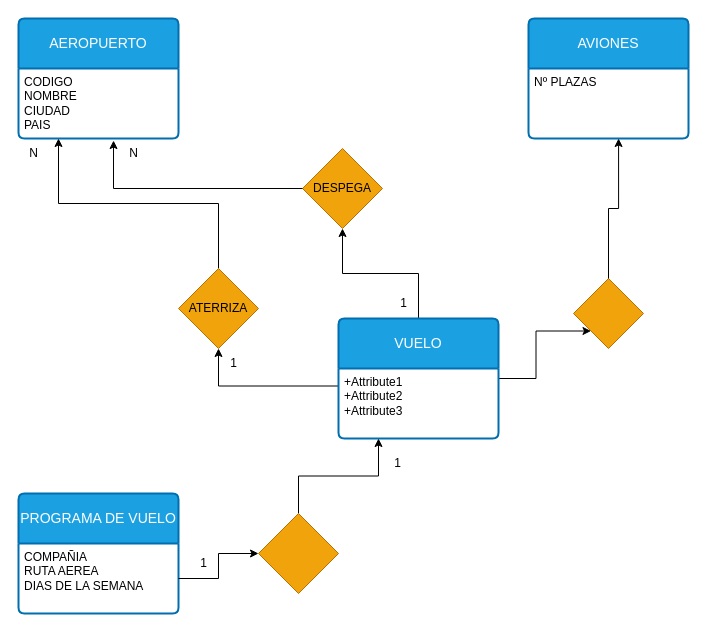
This 706x631 diagram has some shape labels left out. The shapes that lost their labels are listed below. From the top down, each one's centre as x and y in pixels, then its label:
the point at 608,313: TIENE
the point at 298,553: DEPENDE
